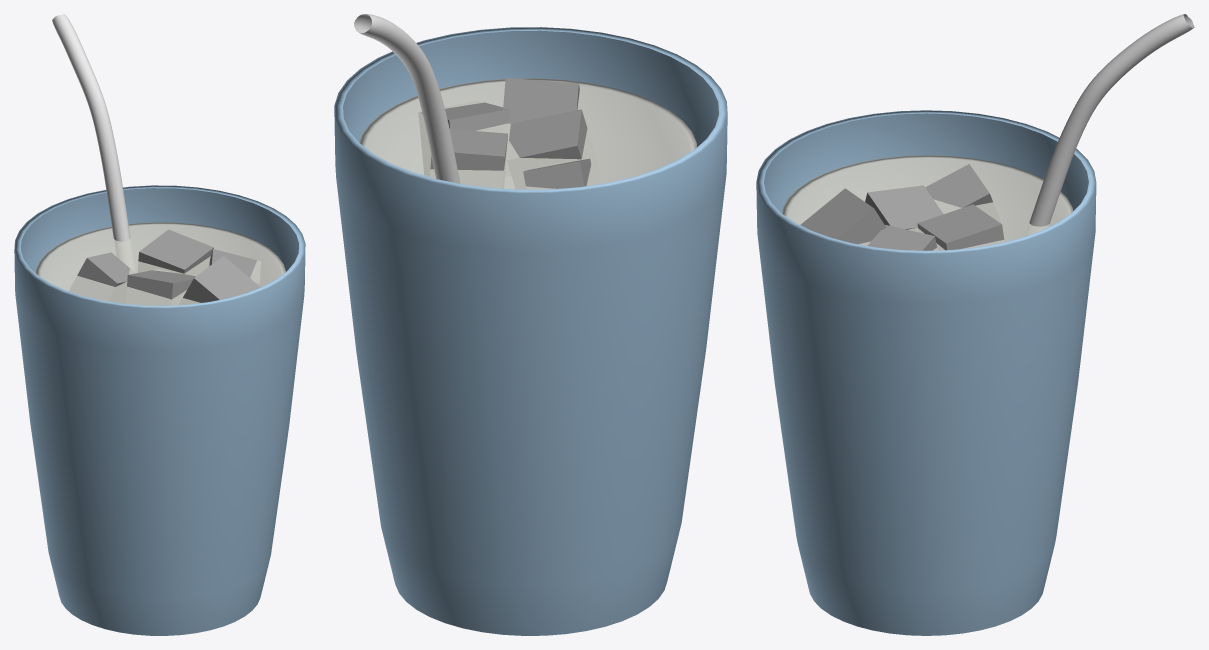
File: drink.fbx
3 renders of one model, left to right at view 1: azimuth 30°, elevation 25°; view 2: azimuth 150°, elevation 25°; view 3: azimuth 270°, elevation 25°, orthographic. The views are drawn at different scales.
Parts seen in each view (by area): view 1: pCylinder4; view 2: pCylinder4; view 3: pCylinder4.
Part boxes in pixels (x1,y1,x2,y2): pCylinder4: (14,14,305,635); pCylinder4: (334,14,727,635); pCylinder4: (756,14,1194,635).
Size of the model in its own units: 49.31 by 92.42 by 63.56.
